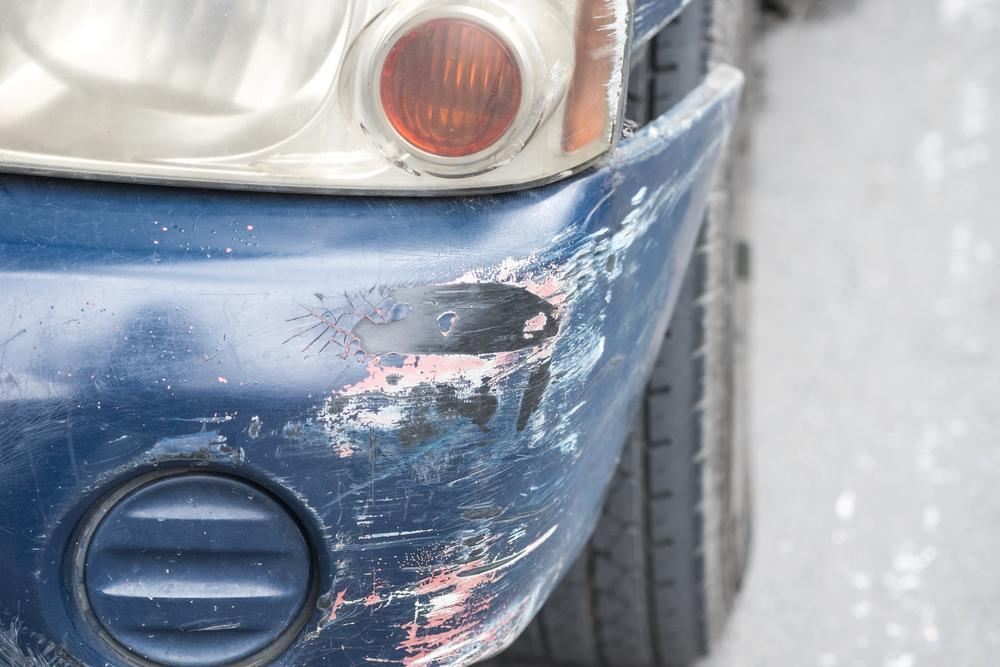scratch: (150, 126, 724, 667), (591, 0, 627, 134)
